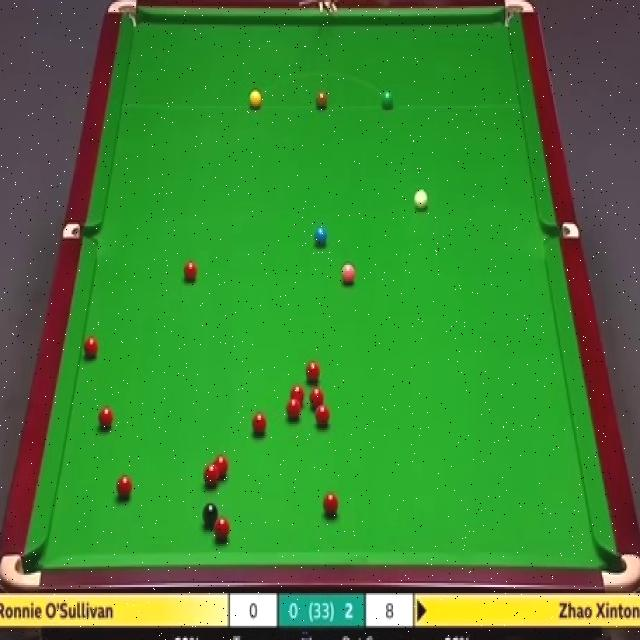black-ball: (202, 502, 220, 525)
blue-ball: (314, 224, 328, 250)
brown-ball: (315, 89, 328, 109)
green-ball: (380, 90, 393, 109)
pink-ball: (341, 265, 356, 287)
red-ball: (321, 488, 340, 520), (112, 473, 132, 500), (250, 409, 268, 438), (95, 403, 113, 430), (82, 336, 100, 362), (289, 382, 306, 407), (203, 462, 220, 487), (304, 360, 322, 383), (312, 390, 328, 414), (215, 455, 231, 478), (216, 517, 230, 543), (299, 395, 315, 417), (183, 263, 198, 281), (316, 404, 329, 424)
white-ball: (415, 189, 429, 211)
yellow-ball: (248, 89, 262, 109)
